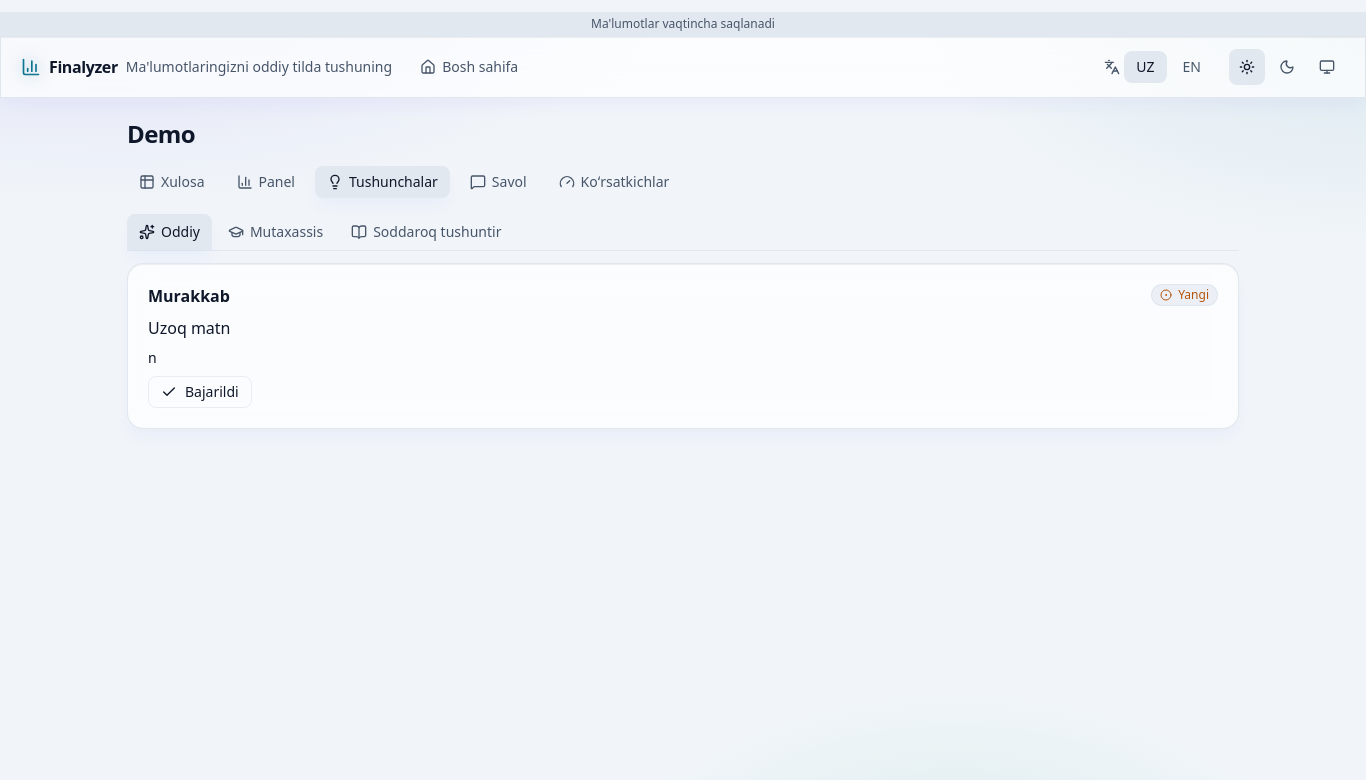
Test: insights and ask pages › loads a simpler wording when Explain simpler is chosen
Expected: the text "Murakkab" is shown, [148,285,230,307]
What coordinates should you click on to do the following:
click the tab "Soddaroq tushuntir"
I would click on:
 (426, 232)
Its box is [339,214,514,250].
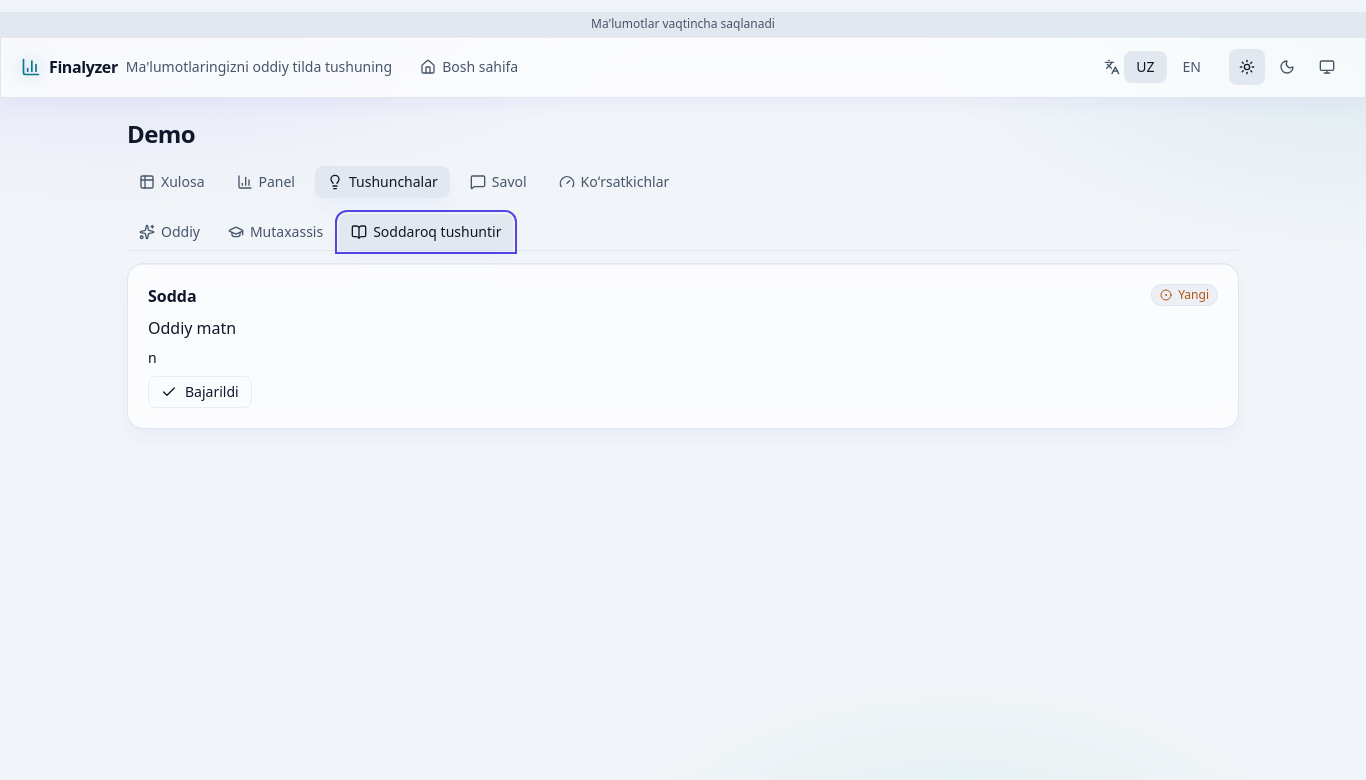
Expected: the text "Sodda" is shown, [148,285,197,307]
Expected: the text "Murakkab" is gone
